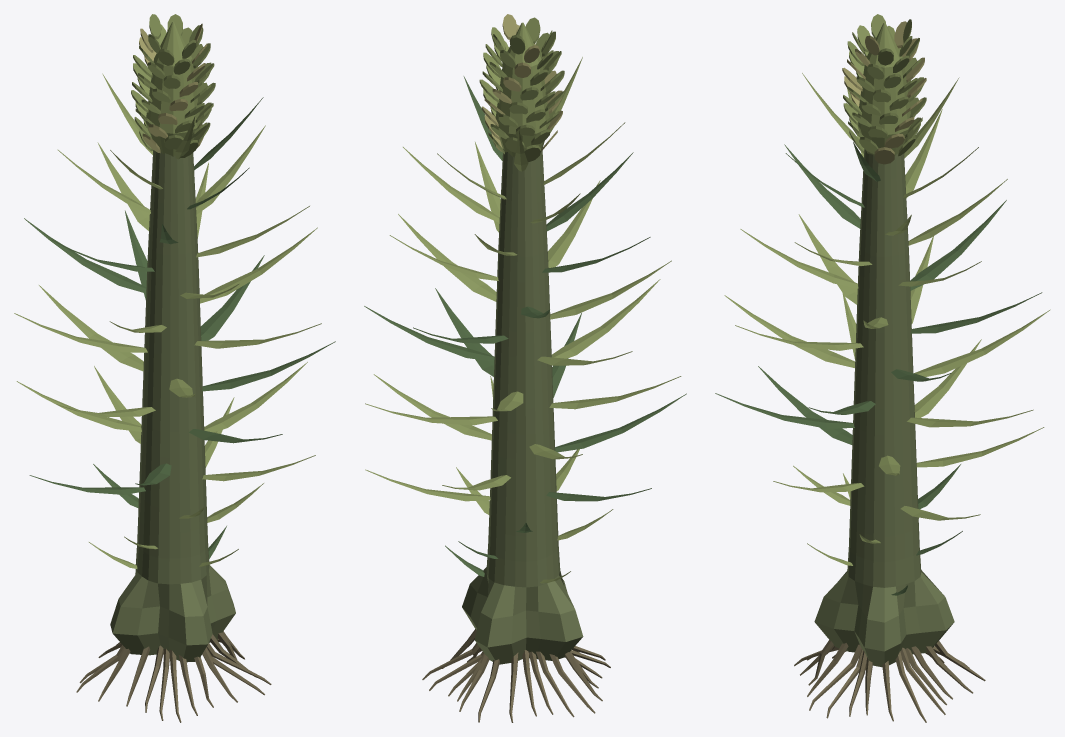
File: pleuromeia.glb
The picture shows the model from 3 angles, left to right: view 1: azimuth 30°, elevation 25°; view 2: azimuth 150°, elevation 25°; view 3: azimuth 270°, elevation 25°; orthographic projection.
Parts seen in each view (by area): view 1: unbranched-spiral-leaf-strobilus-rhizophore; view 2: unbranched-spiral-leaf-strobilus-rhizophore; view 3: unbranched-spiral-leaf-strobilus-rhizophore.
Part boxes in pixels (x1,y1,x2,y2): unbranched-spiral-leaf-strobilus-rhizophore: (14, 14, 335, 722); unbranched-spiral-leaf-strobilus-rhizophore: (364, 14, 686, 722); unbranched-spiral-leaf-strobilus-rhizophore: (715, 14, 1050, 722).
Size of the model in its own units: 0.6404 by 1.45 by 0.6645.
